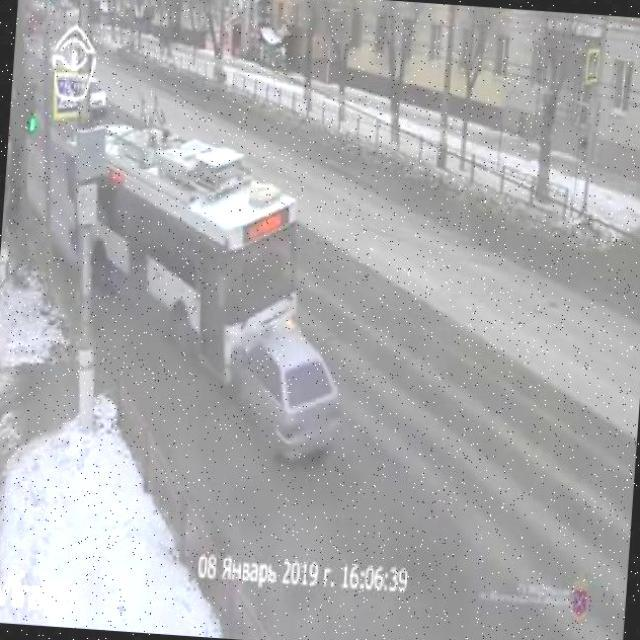accident: (148, 246, 376, 471)
